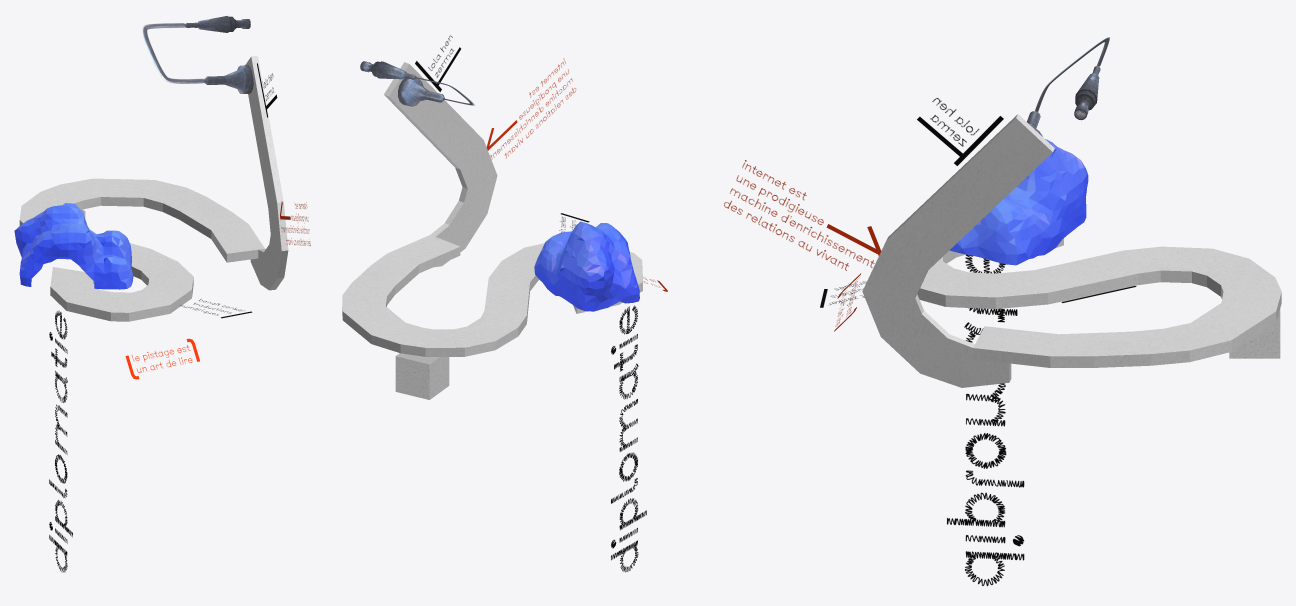
Rendered from Diplomatie.gltf.
The picture shows the model from 3 angles, left to right: view 1: azimuth 30°, elevation 25°; view 2: azimuth 150°, elevation 25°; view 3: azimuth 270°, elevation 25°; orthographic projection. The views are drawn at different scales.
Visible parts, largest first — view 1: Diplomatie, Benoit_3D, Titre_diplomatie, 3D_Lola_Bas, 3D_Lola_Haut, Cartel_Sonore_Benoit_BM, Cartel_Sonore_Thomas_Lola_BM; view 2: Diplomatie, Benoit_3D, Titre_diplomatie, 3D_Thomas, 3D_Lola_Bas, Cartel_Sonore_Thomas_Lola_BM, Cartel_lola_hen; view 3: Diplomatie, Benoit_3D, Titre_diplomatie, Cartel_Sonore_Thomas_Lola_BM, 3D_Thomas, 3D_Lola_Bas, Cartel_lola_hen.
Boxes of the visible parts, x1,y1,x2,y2 form: Diplomatie: (19, 55, 288, 321); Benoit_3D: (14, 203, 133, 289); Titre_diplomatie: (49, 311, 72, 572); 3D_Lola_Bas: (184, 16, 253, 93); 3D_Lola_Haut: (142, 23, 204, 83); Cartel_Sonore_Benoit_BM: (125, 338, 199, 379); Cartel_Sonore_Thomas_Lola_BM: (280, 201, 310, 245); Diplomatie: (342, 62, 642, 356); Benoit_3D: (534, 221, 639, 311); Titre_diplomatie: (611, 305, 646, 572); 3D_Thomas: (395, 353, 449, 399); 3D_Lola_Bas: (360, 61, 444, 106); Cartel_Sonore_Thomas_Lola_BM: (486, 58, 576, 159); Cartel_lola_hen: (415, 35, 461, 92); Diplomatie: (862, 114, 1281, 387); Benoit_3D: (949, 139, 1088, 265); Titre_diplomatie: (947, 254, 1024, 585); Cartel_Sonore_Thomas_Lola_BM: (724, 160, 881, 270); 3D_Thomas: (1229, 309, 1280, 358); 3D_Lola_Bas: (1027, 66, 1100, 136); Cartel_lola_hen: (917, 98, 1003, 165).
Size of the model in its own units: 8.15 by 15.34 by 12.22.
Materials: 11 (11 with a texture image).
